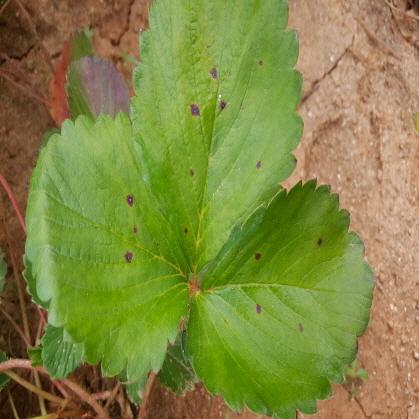Leaf Spot: (128, 0, 303, 286), (180, 177, 376, 418), (23, 110, 192, 384)
